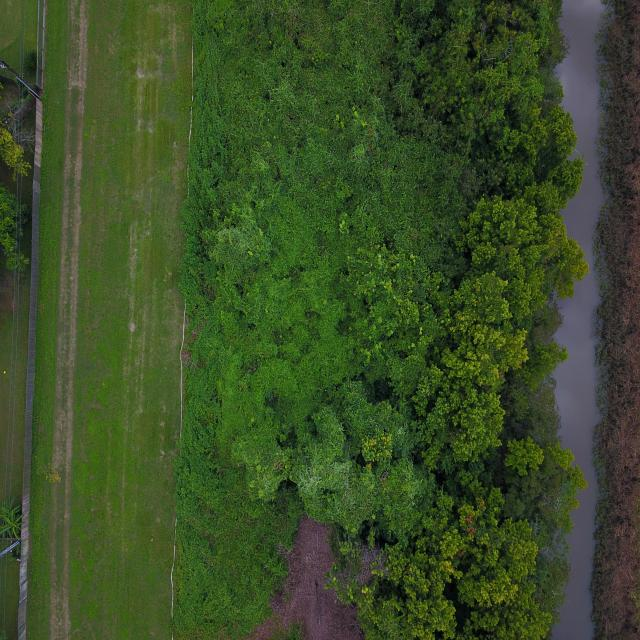fire: (554, 0, 605, 640)
